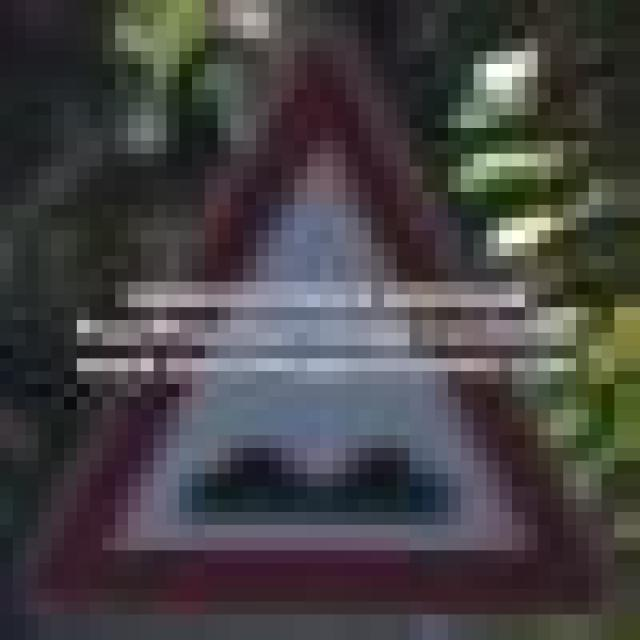horn_prohibited: (13, 26, 627, 614)
